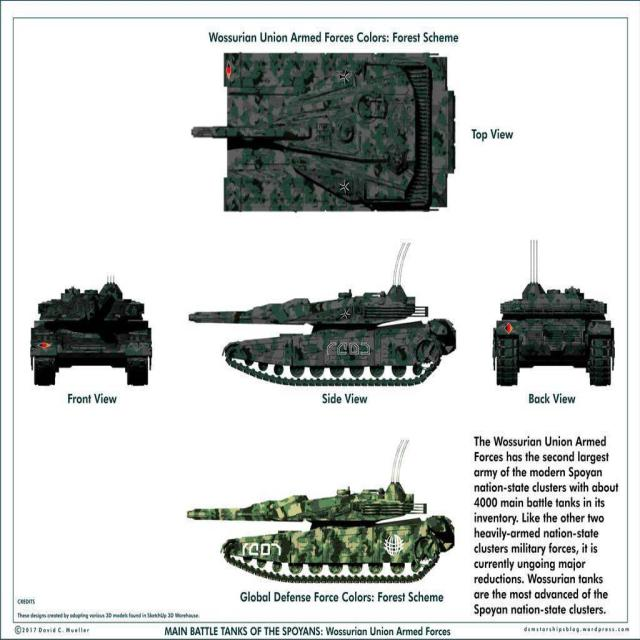Tanks: (186, 52, 462, 220), (185, 253, 454, 403), (192, 454, 452, 585), (26, 272, 160, 399), (486, 237, 576, 391)
